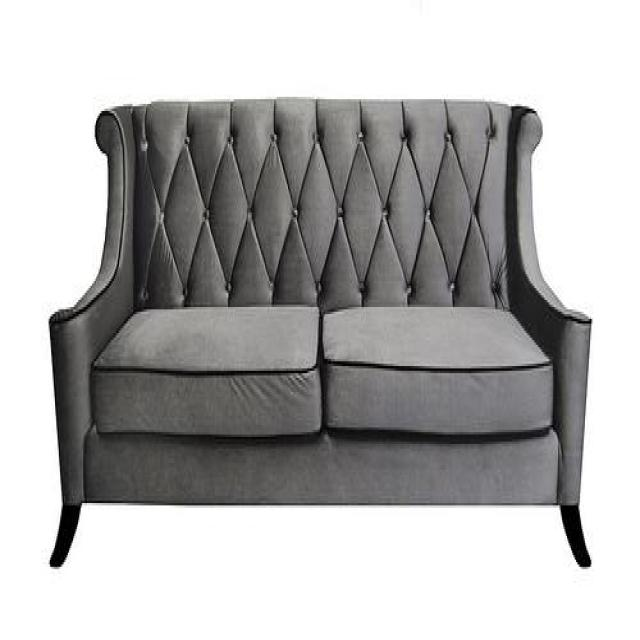sofa: (47, 95, 593, 569)
